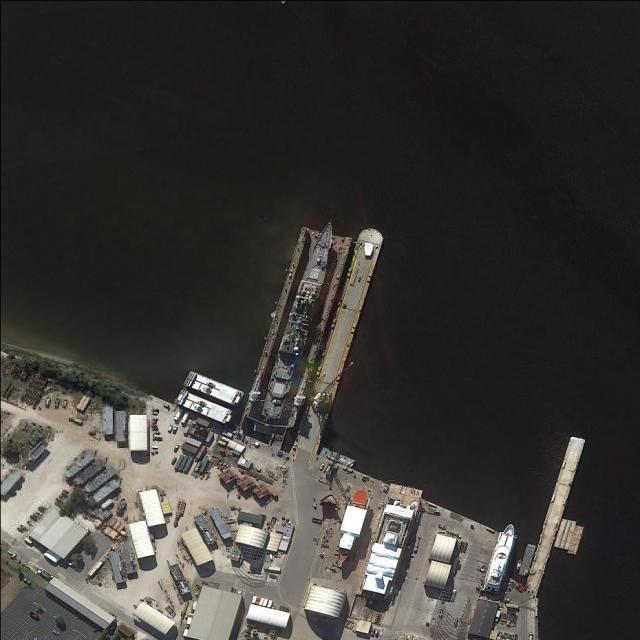Cruiser: (257, 220, 344, 421)
Dock: (290, 224, 387, 460), (524, 431, 586, 595)
Yacht: (485, 521, 517, 587)
